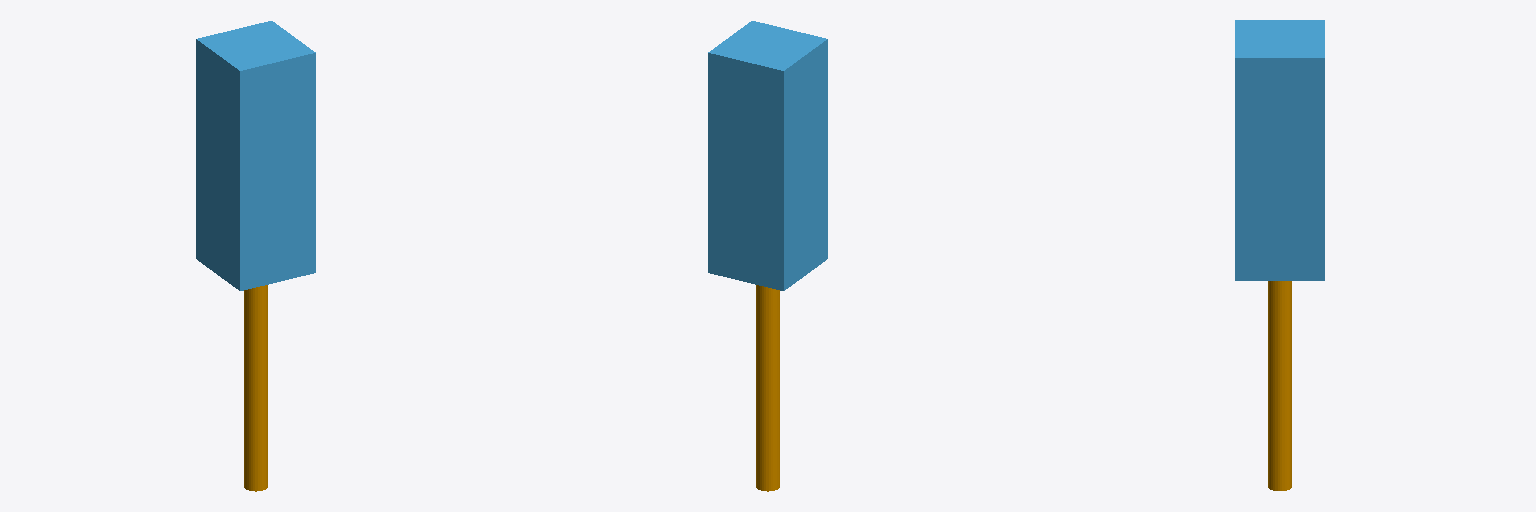
The robot description file, URDF, robot "screwdriver_on_the_table":
<?xml version="1.0" ?>
<!-- this is the one without any virtual joints and links -->
<robot name="screwdriver_on_the_table">
<link name="screwdriver_stick">
    <inertial>
      <mass value="0.05"/>
      <!-- <friction value="1.0"/> -->
      <inertia ixx="0.000041979" ixy="0.0" ixz="0.0" iyy="0.000041979" iyz="0.0" izz="0.000000625"/>
    </inertial>
    <visual>
        <origin rpy="0 0 0" xyz="0 0 0.05"/>
        <geometry>
            <cylinder radius="0.005" length="0.1"/>
        </geometry>
        <!-- <material name="White">
	 	    <color rgba="0.9 0.9 0.9 0.5"/>
        </material> -->
    </visual>
    <collision>
        <origin rpy="0 0 0" xyz="0 0 0.05"/>
        <geometry>
            <cylinder radius="0.005" length="0.1"/>
        </geometry>
    </collision>
</link>

<gazebo reference="screwdriver_body">
    <mu1>1.024471</mu1>
    <mu2>1.268554</mu2>
    <!-- Isaac Sim maps mu1/mu2 to PhysX static/dynamic friction during URDF→USD import -->
</gazebo>

<joint name="screwdriver_stick_body_joint" type="fixed">
    <parent link="screwdriver_stick"/>
    <child link="screwdriver_body"/>
    <origin rpy="0 0 0" xyz="0 0 0.1"/> 
    <axis xyz="0 0 1"/>
</joint>

<link name="screwdriver_body">
    <inertial>
      <mass value="0.177124"/>
      <inertia ixx="0.000166953" ixy="0.0" ixz="0.0" iyy="0.000166676" iyz="0.0" izz="0.000038421"/>
    </inertial>
    <visual>
        <origin rpy="0 0 0" xyz="0 0 0.05"/>
        <geometry>
            <box size="0.035946 0.036206 0.100000"/>
        </geometry>
        <!-- <material name="Red1">
	 	    <color rgba="0.9 0. 0. 0.5"/>
        </material> -->
    </visual>
    <collision>
        <origin rpy="0 0 0" xyz="0 0 0.05"/>
        <geometry>
            <box size="0.035946 0.036206 0.100000"/>
        </geometry>
    </collision>
</link>

<!-- <joint name="screwdriver_body_cap_joint" type="revolute">
    <parent link="screwdriver_body"/>
    <child link="screwdriver_cap"/>
    <origin rpy="0 0 0" xyz="0 0 0.1"/> 
    <axis xyz="0 0 1"/>
</joint>

<link name="screwdriver_cap">
    <inertial>
      <mass value="0.005"/>
      <inertia ixx="0.00001" ixy="0.0" ixz="0.0" iyy="0.000005" iyz="0.0" izz="0.000005"/>
    </inertial>
    <visual>
        <origin rpy="0 0 0" xyz="0 0 0.0006"/>
        <geometry>
            <cylinder radius="0.02" length="0.001"/>
        </geometry>
        <material name="Yellow">
	 	    <color rgba="0.9 0.9 0. 1.0"/>
        </material>
    </visual>
    <collision>
        <origin rpy="0 0 0" xyz="0 0 0.0005"/>
        <geometry>
            <cylinder radius="0.02" length="0.001"/>
        </geometry>
    </collision>
</link> -->

</robot>

--- Facts derived from the render (not from the file) ---
The picture shows the robot from 3 angles, left to right: view 1: azimuth 30°, elevation 25°; view 2: azimuth 150°, elevation 25°; view 3: azimuth 270°, elevation 25°; orthographic projection.
Robot: screwdriver_on_the_table — 2 links, 1 joints (1 fixed); root link screwdriver_stick; default pose: all joints at 0.
Links seen in each view (by area): view 1: screwdriver_body, screwdriver_stick; view 2: screwdriver_body, screwdriver_stick; view 3: screwdriver_body, screwdriver_stick.
Boxes of the visible links, <box> form: screwdriver_body: <box>196,21,315,290</box>; screwdriver_stick: <box>244,285,267,491</box>; screwdriver_body: <box>708,21,827,290</box>; screwdriver_stick: <box>756,285,779,491</box>; screwdriver_body: <box>1235,20,1324,280</box>; screwdriver_stick: <box>1268,281,1291,490</box>.
Bounding box of the posed robot: 0.0359 × 0.0362 × 0.2 m (x, y, z).
Geometry: primitives only (box / cylinder / sphere), no mesh files.
